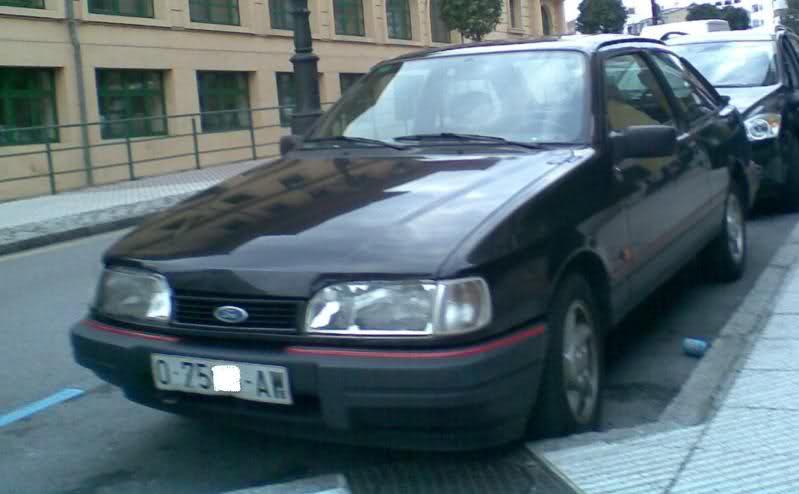car: (70, 36, 741, 425), (664, 31, 799, 217)
